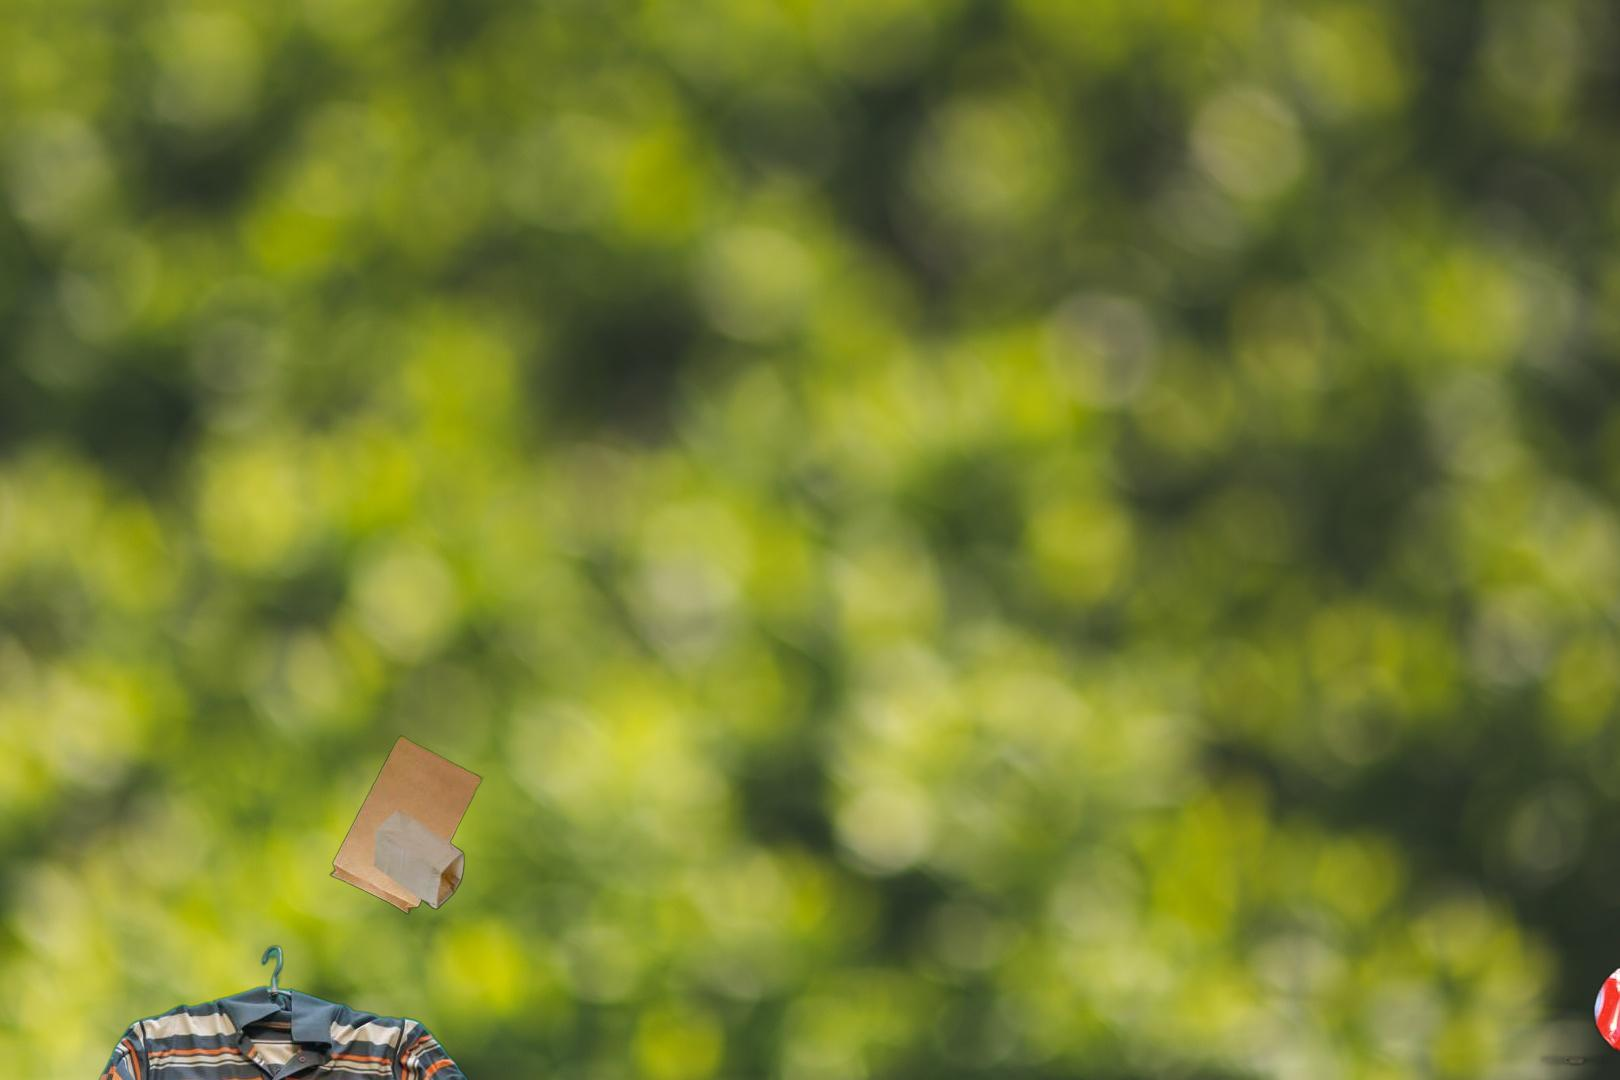clothes: (76, 943, 476, 1080)
metal-cans: (1495, 816, 1620, 1080)
paper-bag: (327, 733, 487, 915)
